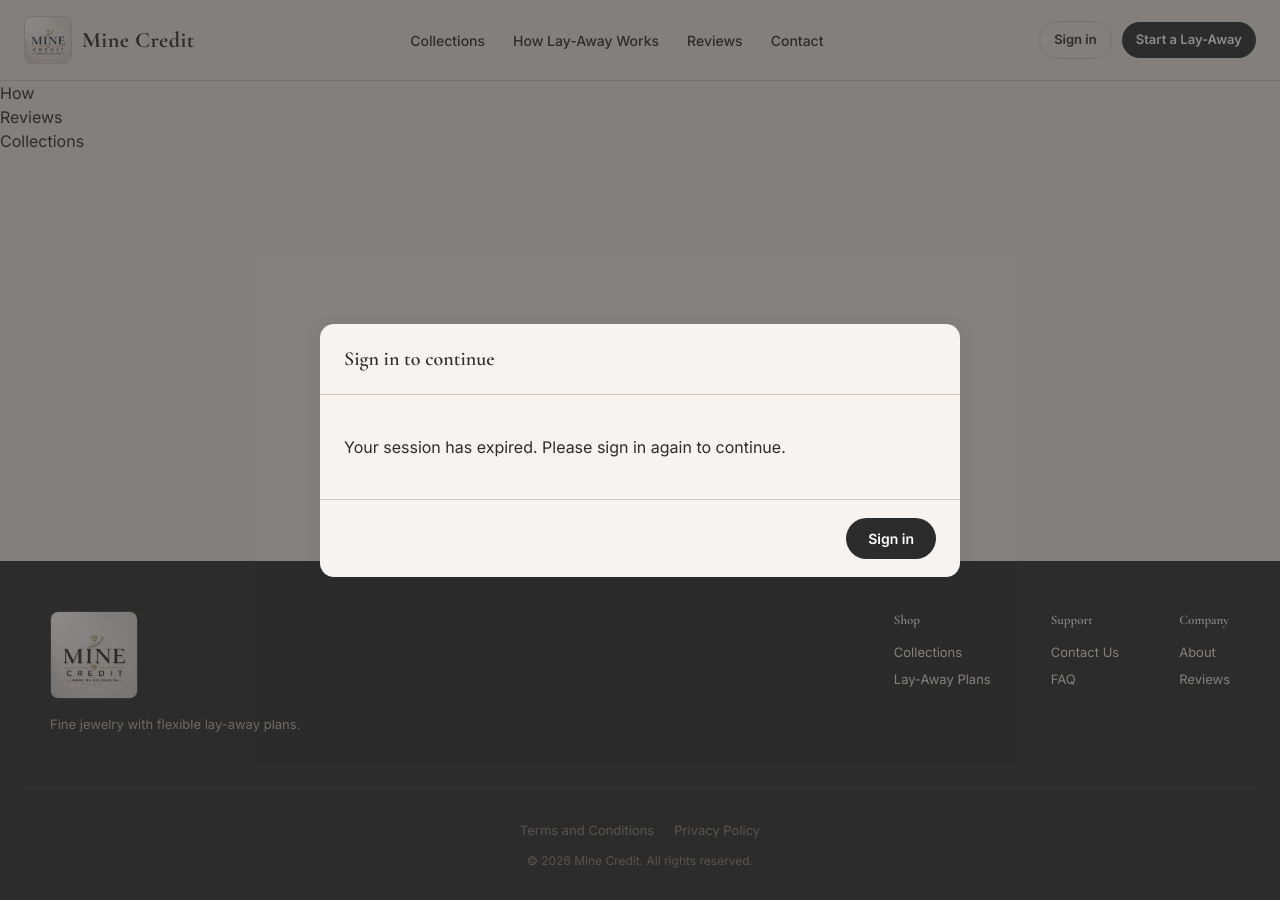
StorefrontLayout › shows the sign-in modal when the customer session expires
Check: the dialog "Sign in to continue" is shown, box [320,324,960,576]
Click the button "Sign in".
click(891, 538)  # box [846,518,936,558]
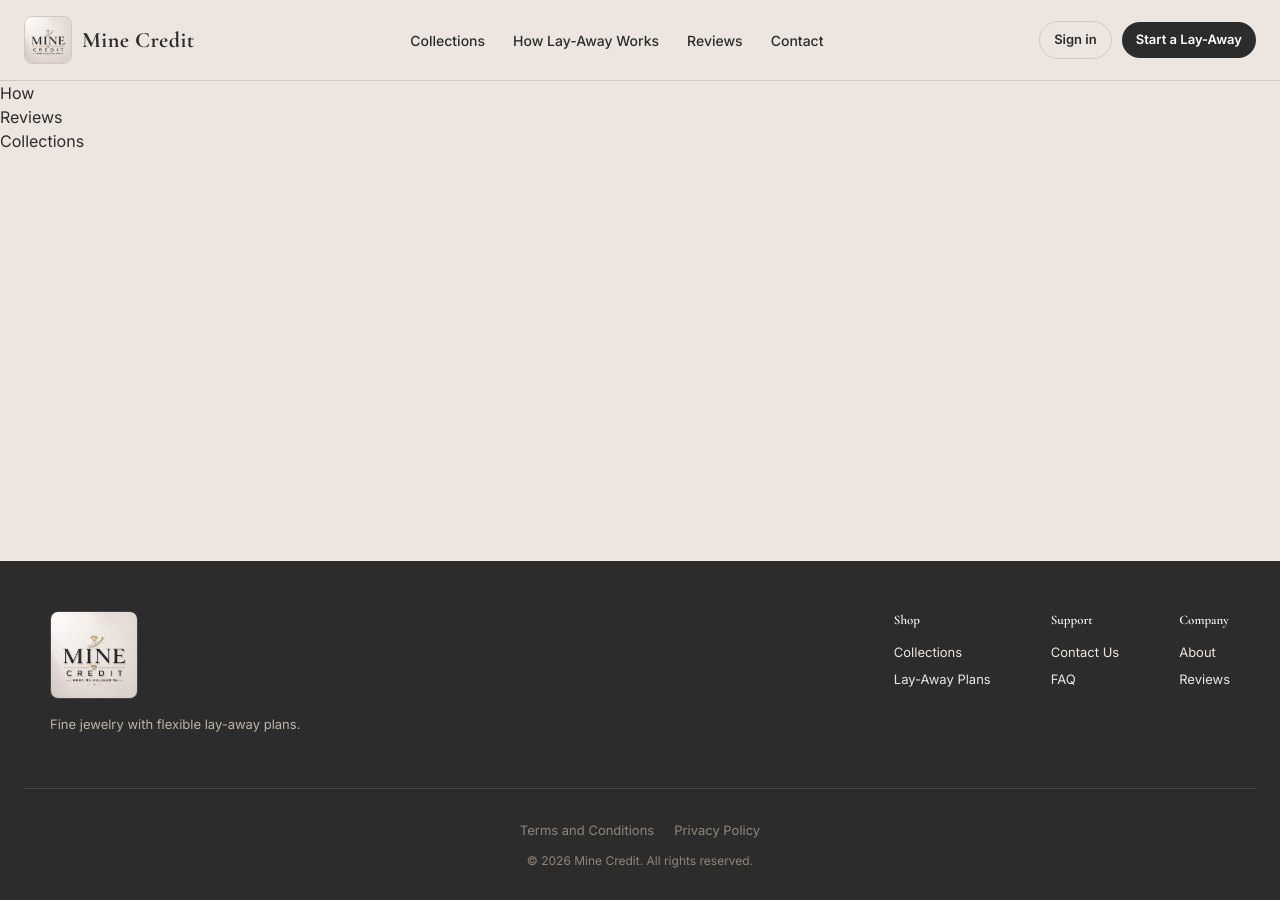
Check: the dialog is gone
